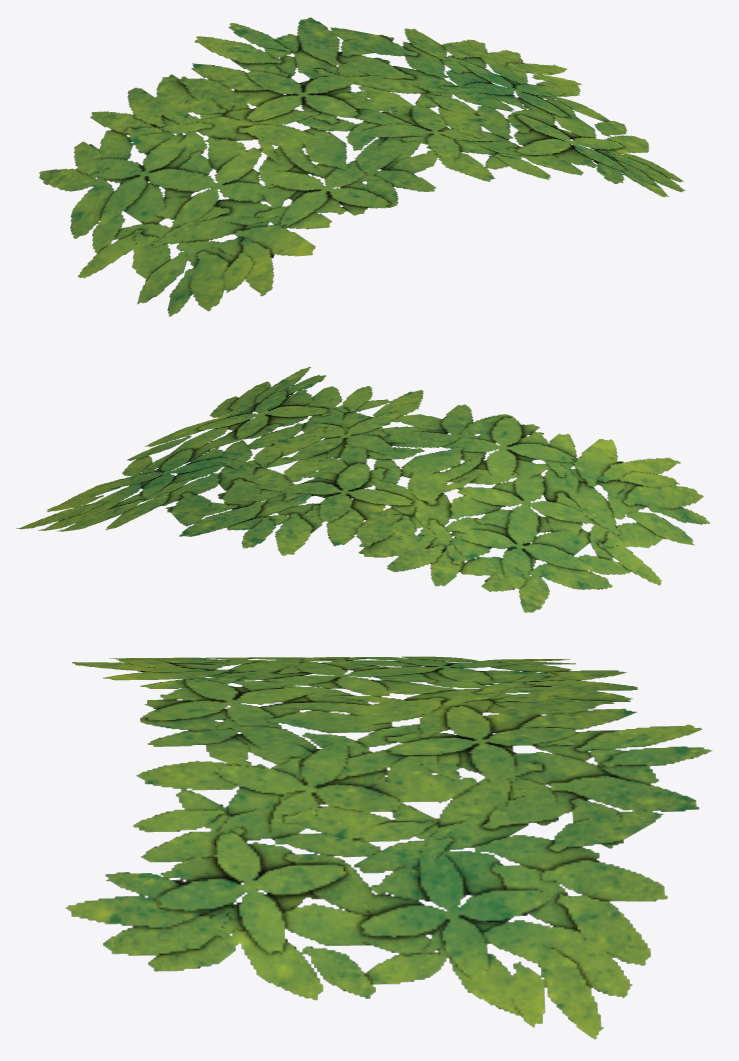
File: Bush_10.fbx
3 renders of one model, top to bottom at view 1: azimuth 30°, elevation 25°; view 2: azimuth 150°, elevation 25°; view 3: azimuth 270°, elevation 25°, orthographic. The views are drawn at different scales.
Visible parts, largest first — view 1: Bush_10; view 2: Bush_10; view 3: Bush_10.
Part boxes in pixels (box(x1,y1,x2,y2)): Bush_10: box(39, 17, 685, 316); Bush_10: box(16, 366, 709, 612); Bush_10: box(65, 656, 712, 1039).
Bounding box in the file's own units: 3.32 × 0.4435 × 2.57.
